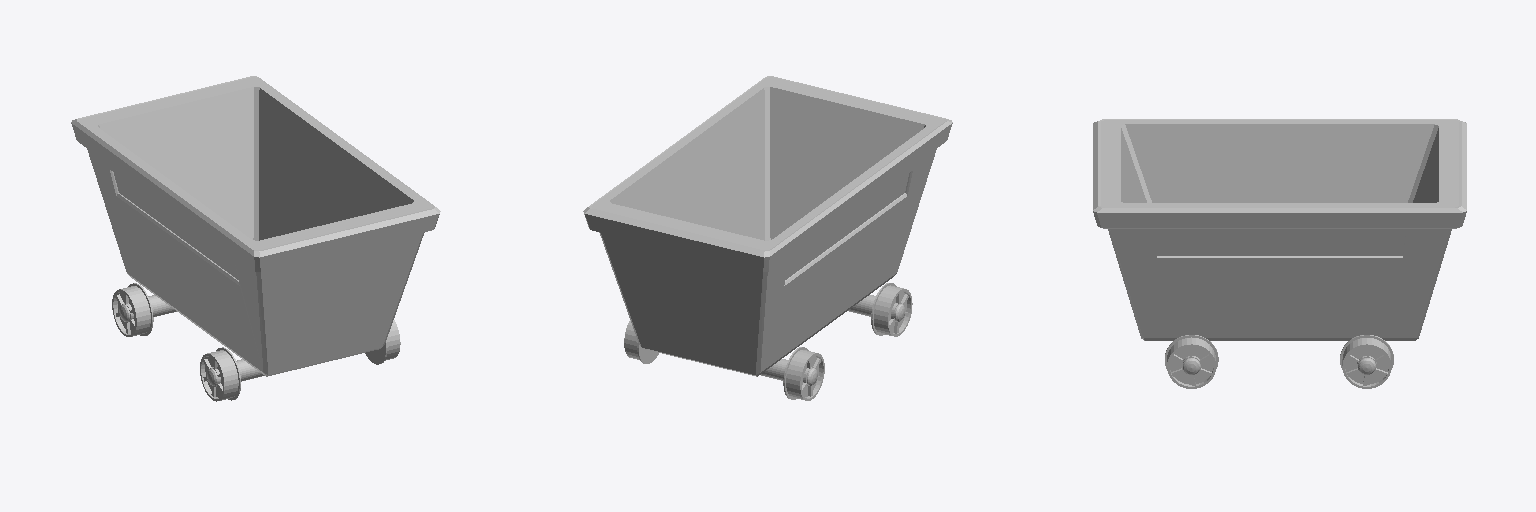
Rendered from cart.obj.
The picture shows the model from 3 angles: view 1: azimuth 30°, elevation 25°; view 2: azimuth 150°, elevation 25°; view 3: azimuth 270°, elevation 25°; orthographic projection.
Parts seen in each view (by area): view 1: Cart_Cube; view 2: Cart_Cube; view 3: Cart_Cube.
Boxes of the visible parts, x1,y1,x2,y2 form: Cart_Cube: [71, 76, 440, 401]; Cart_Cube: [583, 76, 952, 400]; Cart_Cube: [1093, 119, 1466, 388].
Size of the model in its own units: 13.12 by 12.4 by 22.81.